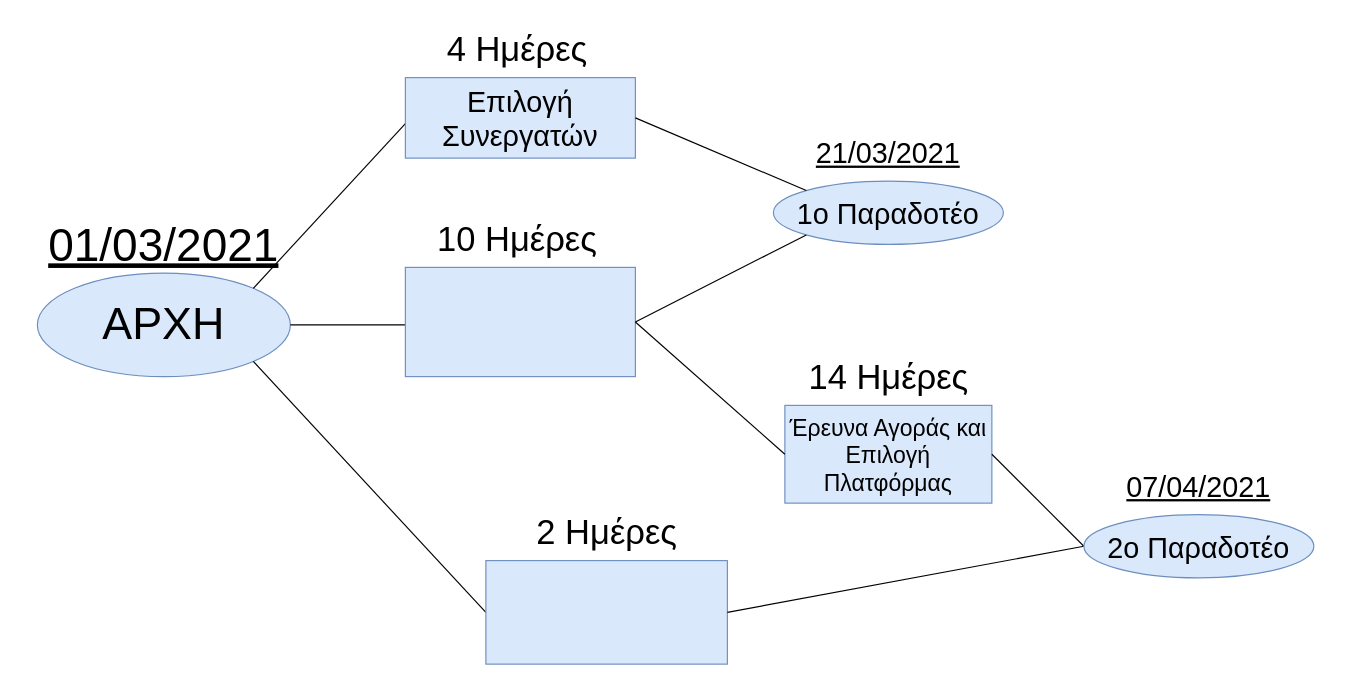
Some shapes in this 1362 by 684 pixel diagram are drawn without their labels. The centre of each missing label's shape, as x and y in pixels:
"Επιλογή Εργαλείων Υλοποιήσης" belongs at (606,611).
"Σύλληψη Ιδέας και Σχεδιασμός Έργου" belongs at (519,321).
